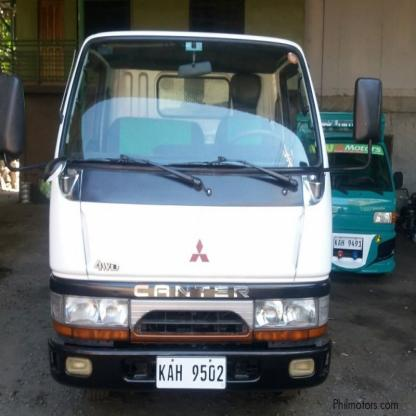truck: (2, 32, 384, 394)
